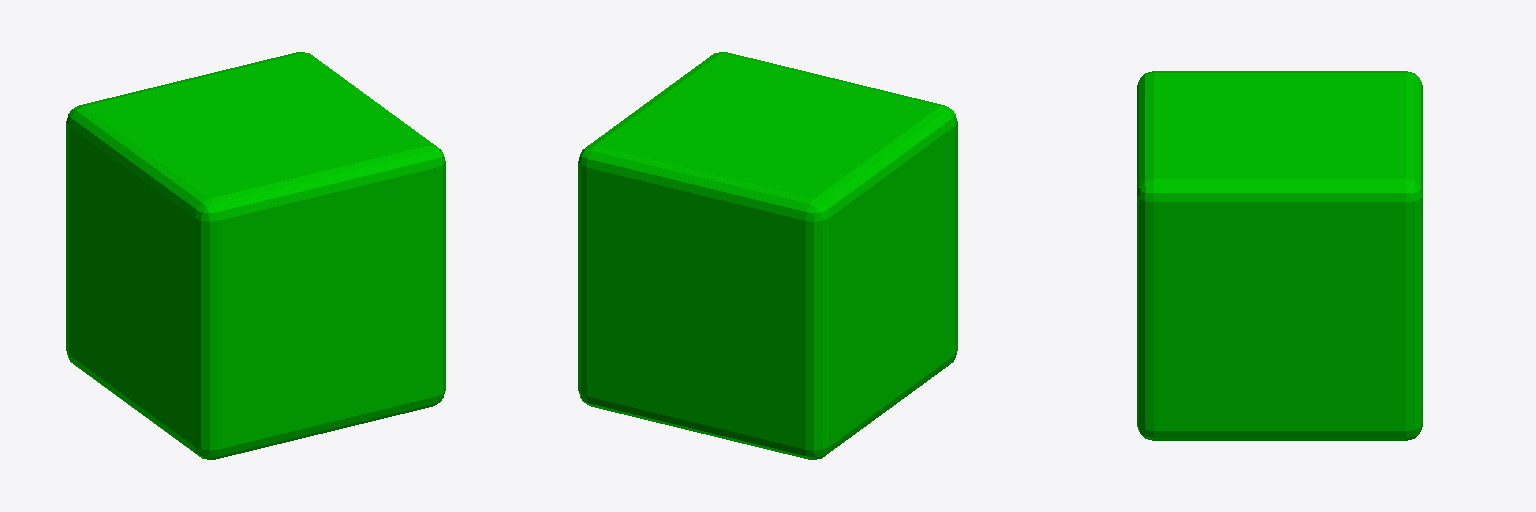
3 renders of one model, left to right at view 1: azimuth 30°, elevation 25°; view 2: azimuth 150°, elevation 25°; view 3: azimuth 270°, elevation 25°, orthographic.
Visible parts, largest first — view 1: Variant; view 2: Variant; view 3: Variant.
Part boxes in pixels (x1,y1,x2,y2): Variant: (66,52,445,459); Variant: (578,52,957,459); Variant: (1137,71,1422,440).
Size of the model in its own units: 1 by 1 by 1.